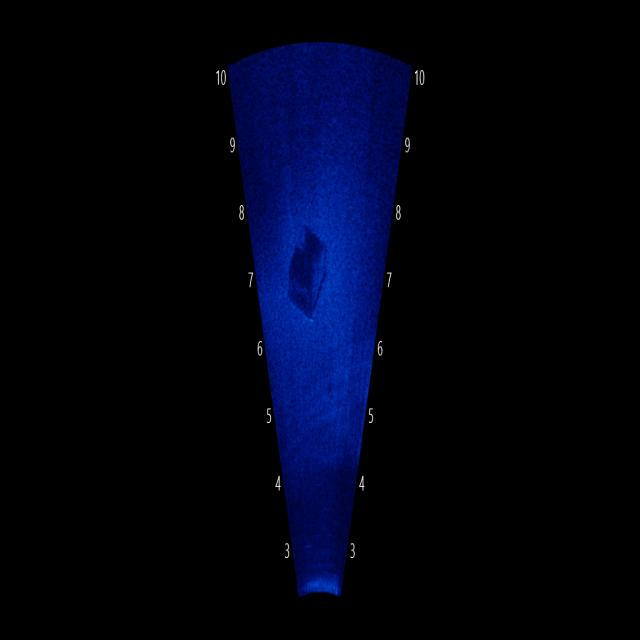square: (267, 207, 338, 350)
